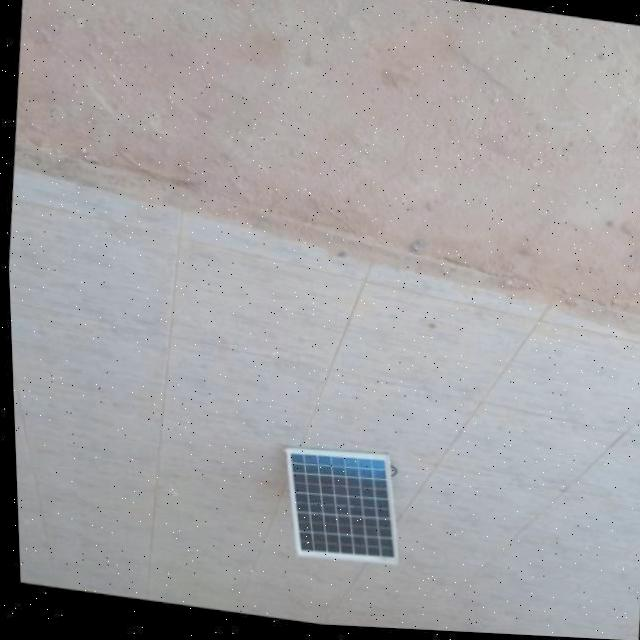Normal Solar Panel: (273, 442, 403, 572)
